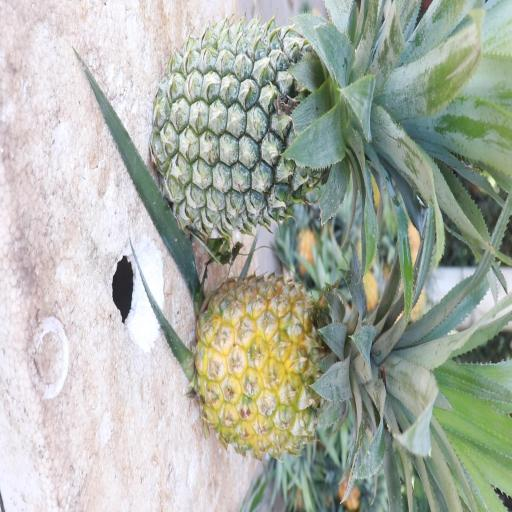Pineapple - v8 v1: (205, 256, 462, 457)
